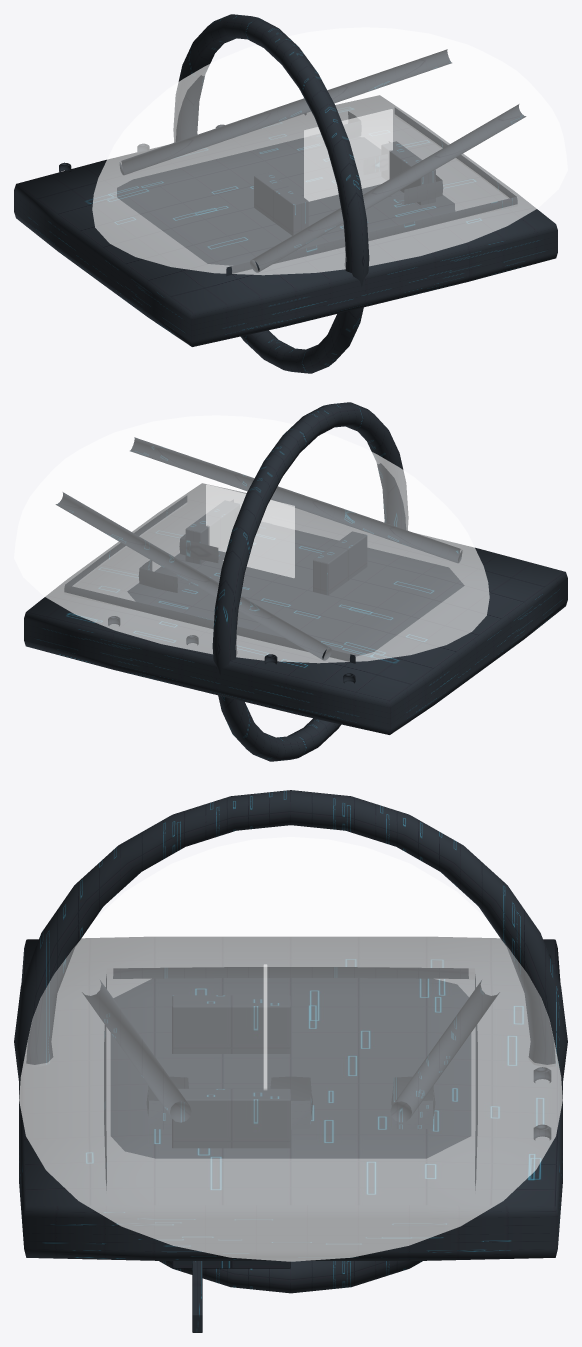
Rendered from cockpit_dome.glb.
3 renders of one model, top to bottom at view 1: azimuth 30°, elevation 25°; view 2: azimuth 150°, elevation 25°; view 3: azimuth 270°, elevation 25°, orthographic. The views are drawn at different scales.
Visible parts, largest first — view 1: Dome_Glass, Dome_Mount_Collar, cockpit_dome_Material_Accent_Merged, cockpit_dome_Material_Mechanical_Merged, DET_glass_scratch, DET_frame_rib_L, DET_frame_rib_R; view 2: Dome_Glass, Dome_Mount_Collar, cockpit_dome_Material_Accent_Merged, cockpit_dome_Material_Mechanical_Merged, DET_glass_scratch, DET_frame_rib_L, DET_frame_rib_R; view 3: Dome_Glass, Dome_Mount_Collar, cockpit_dome_Material_Accent_Merged, cockpit_dome_Material_Mechanical_Merged, DET_frame_rib_R, DET_frame_rib_L, DET_collar_seam.
Boxes of the visible parts, x1,y1,x2,y2 form: Dome_Glass: (92, 27, 567, 275); Dome_Mount_Collar: (14, 95, 557, 346); cockpit_dome_Material_Accent_Merged: (173, 14, 443, 373); cockpit_dome_Material_Mechanical_Merged: (59, 49, 525, 276); DET_glass_scratch: (304, 109, 392, 201); DET_frame_rib_L: (254, 172, 308, 235); DET_frame_rib_R: (381, 141, 435, 205); Dome_Glass: (14, 415, 489, 663); Dome_Mount_Collar: (24, 483, 567, 734); cockpit_dome_Material_Accent_Merged: (138, 402, 408, 761); cockpit_dome_Material_Mechanical_Merged: (56, 437, 462, 683); DET_glass_scratch: (206, 484, 294, 577); DET_frame_rib_L: (313, 531, 367, 595); DET_frame_rib_R: (185, 500, 239, 564); Dome_Glass: (19, 837, 562, 1261); Dome_Mount_Collar: (19, 937, 562, 1260); cockpit_dome_Material_Accent_Merged: (14, 790, 567, 1293); cockpit_dome_Material_Mechanical_Merged: (82, 954, 551, 1190); DET_frame_rib_R: (172, 1088, 290, 1268); DET_frame_rib_L: (172, 995, 290, 1053); DET_collar_seam: (192, 1261, 202, 1332).
Size of the model in its own units: 4.6 by 3.26 by 3.26.
4 materials, 3 textured.
